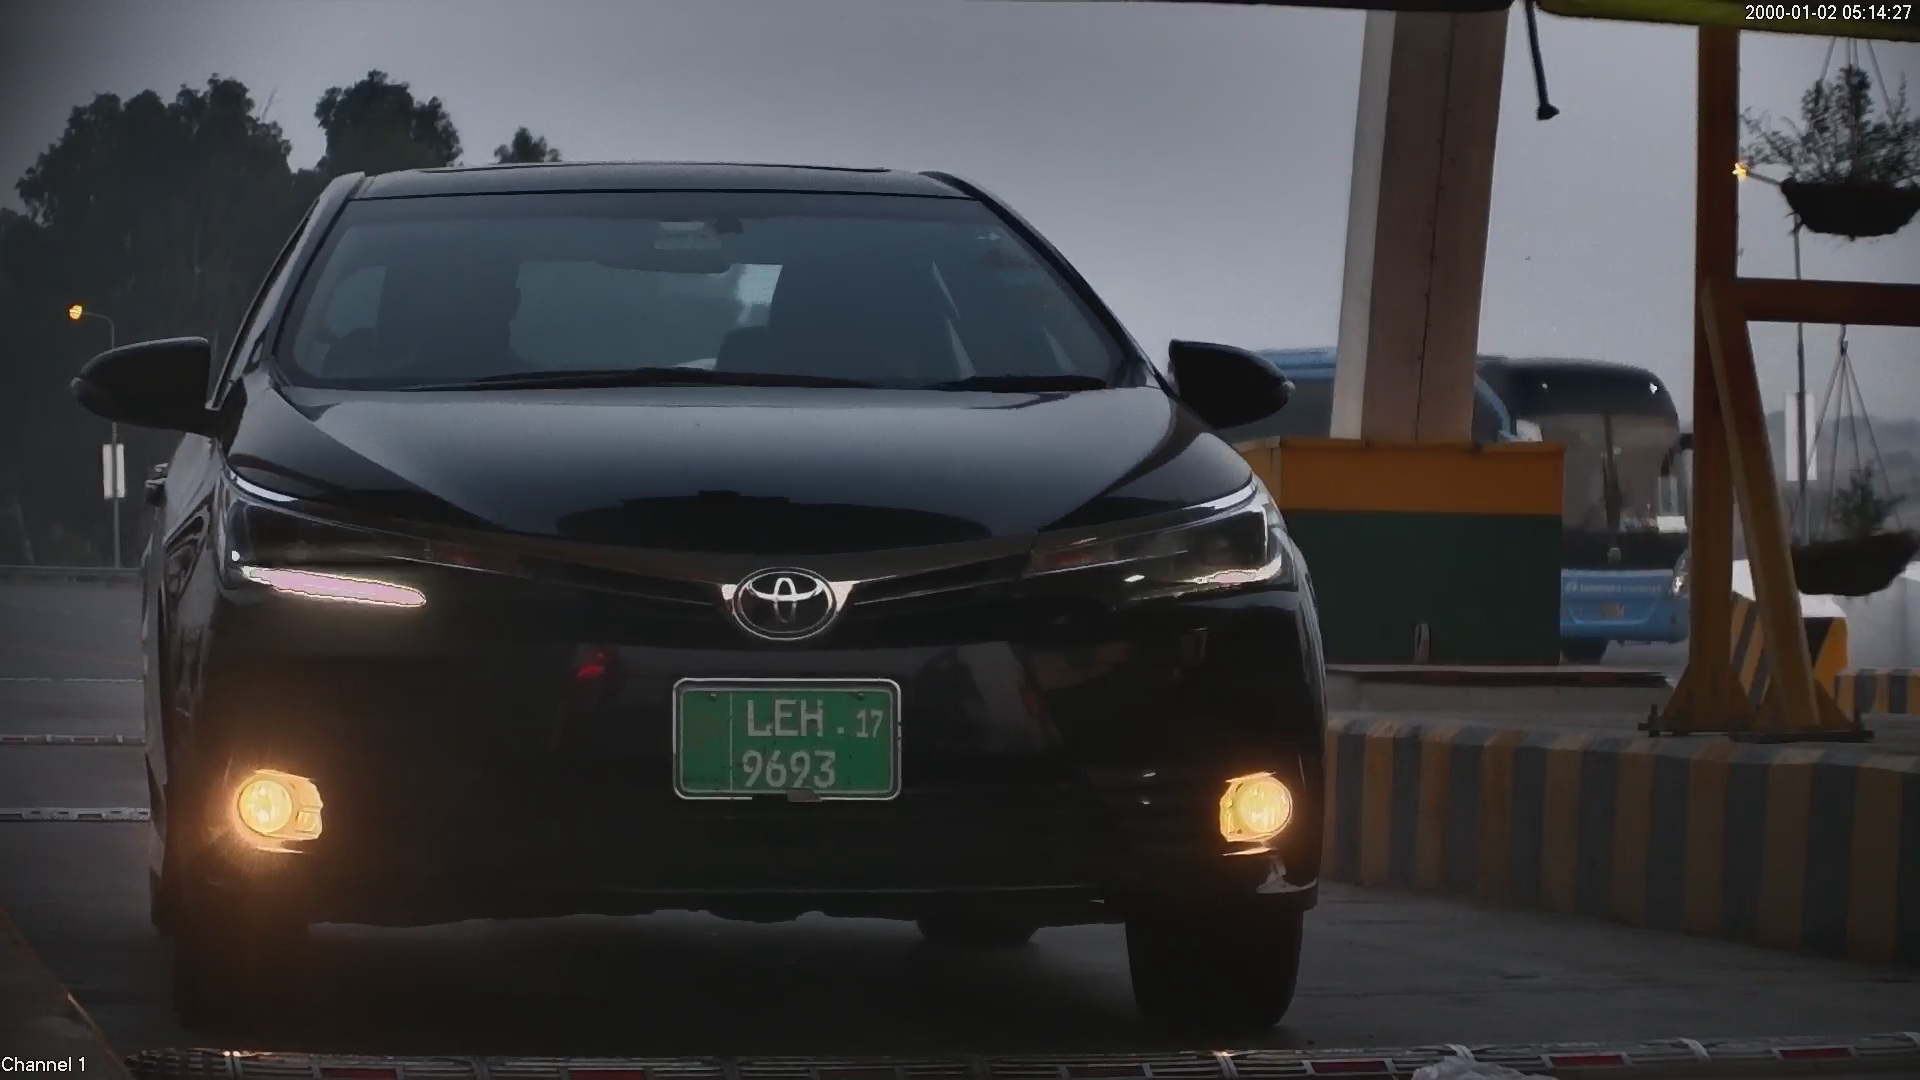Number_Plate: (659, 660, 917, 823)
